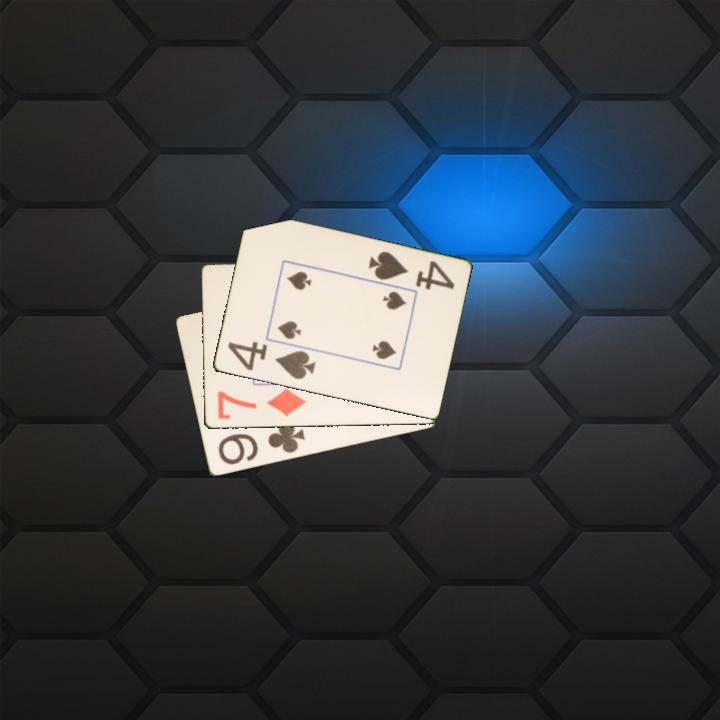4s: (224, 338, 318, 383), (364, 248, 457, 293)
7d: (213, 385, 309, 422)
9c: (214, 418, 308, 468)
